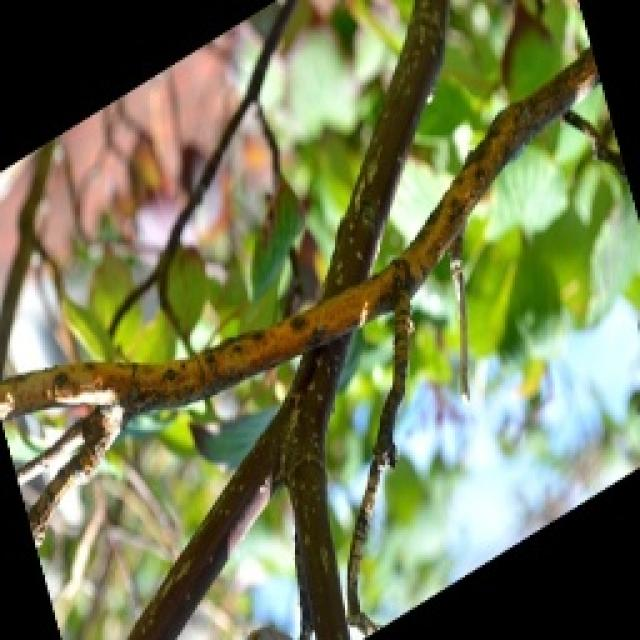Golden_canker: (13, 133, 640, 519)
